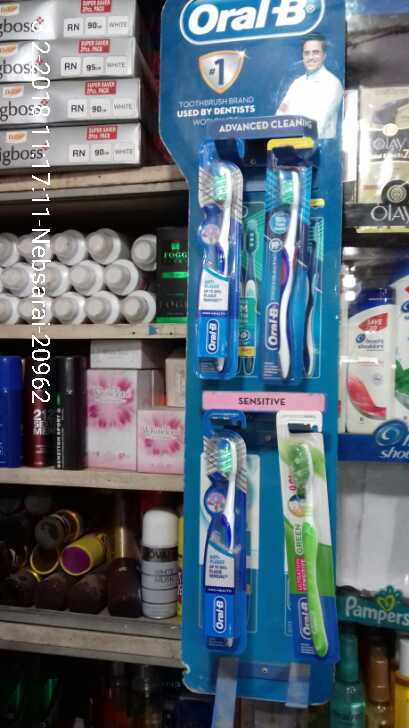beauty: (344, 289, 400, 432)
pharmacy: (260, 167, 315, 375), (284, 436, 336, 654), (197, 429, 246, 637), (190, 165, 237, 376)
